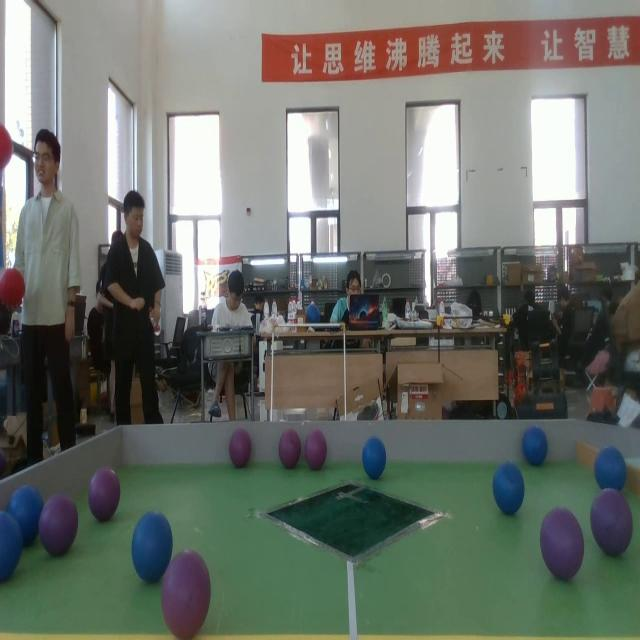blue: (136, 512, 171, 576), (8, 488, 43, 548), (493, 461, 525, 517), (0, 511, 22, 584), (594, 446, 628, 492), (522, 424, 549, 466), (361, 436, 387, 479)
invalid: (160, 549, 212, 640), (542, 504, 586, 584), (589, 487, 634, 556), (38, 493, 78, 558), (88, 465, 124, 523), (229, 426, 253, 469), (278, 429, 302, 468), (306, 429, 328, 467)
red: (0, 268, 25, 308)
